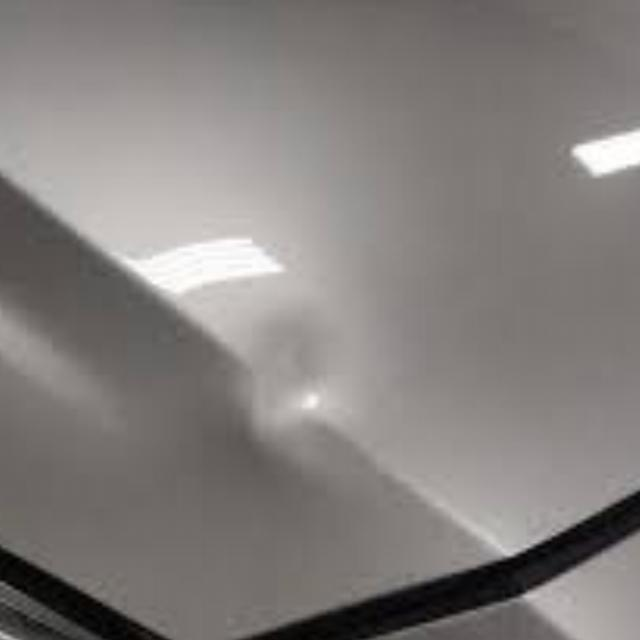dents: (245, 306, 345, 428)
